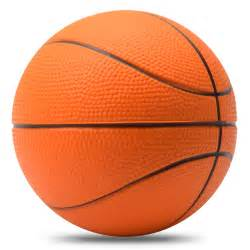basketball: (8, 8, 240, 241)
